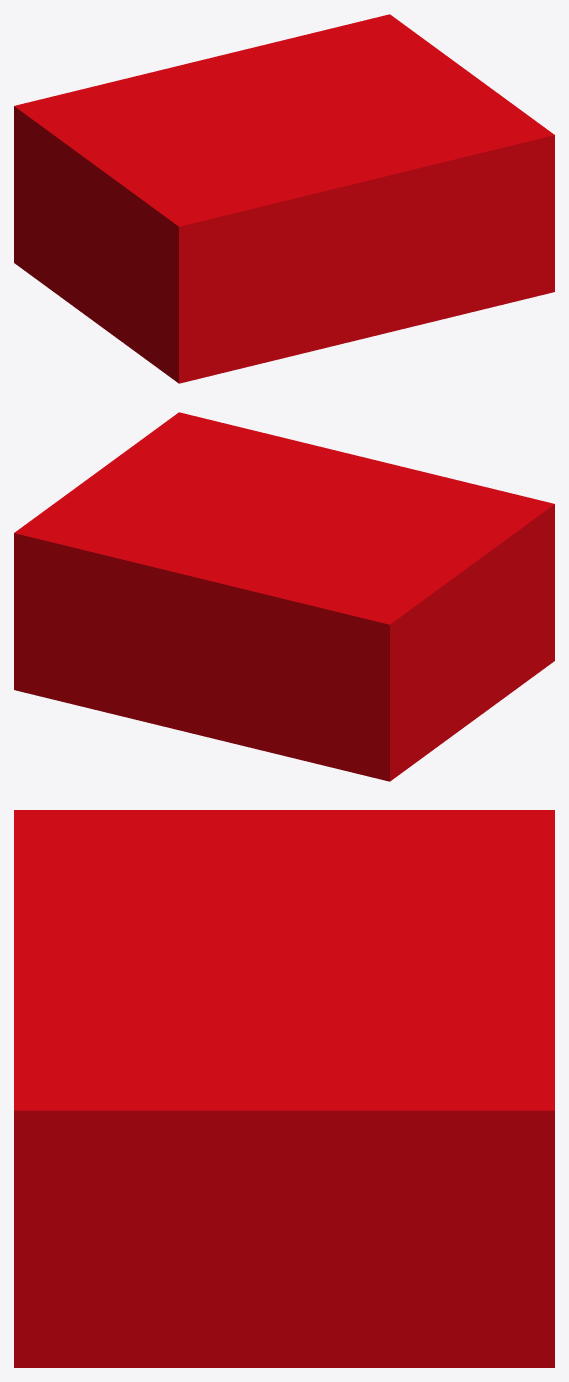
The model's file is BookStack2(OneMat).fbx.
The picture shows the model from 3 angles, top to bottom: view 1: azimuth 30°, elevation 25°; view 2: azimuth 150°, elevation 25°; view 3: azimuth 270°, elevation 25°; orthographic projection. The views are drawn at different scales.
Visible parts, largest first — view 1: BookStack2(OneMat); view 2: BookStack2(OneMat); view 3: BookStack2(OneMat).
Boxes of the visible parts, x1,y1,x2,y2 form: BookStack2(OneMat): [14, 14, 554, 383]; BookStack2(OneMat): [14, 412, 554, 781]; BookStack2(OneMat): [14, 810, 554, 1367].
Size of the model in its own units: 2 by 0.7979 by 1.52.
